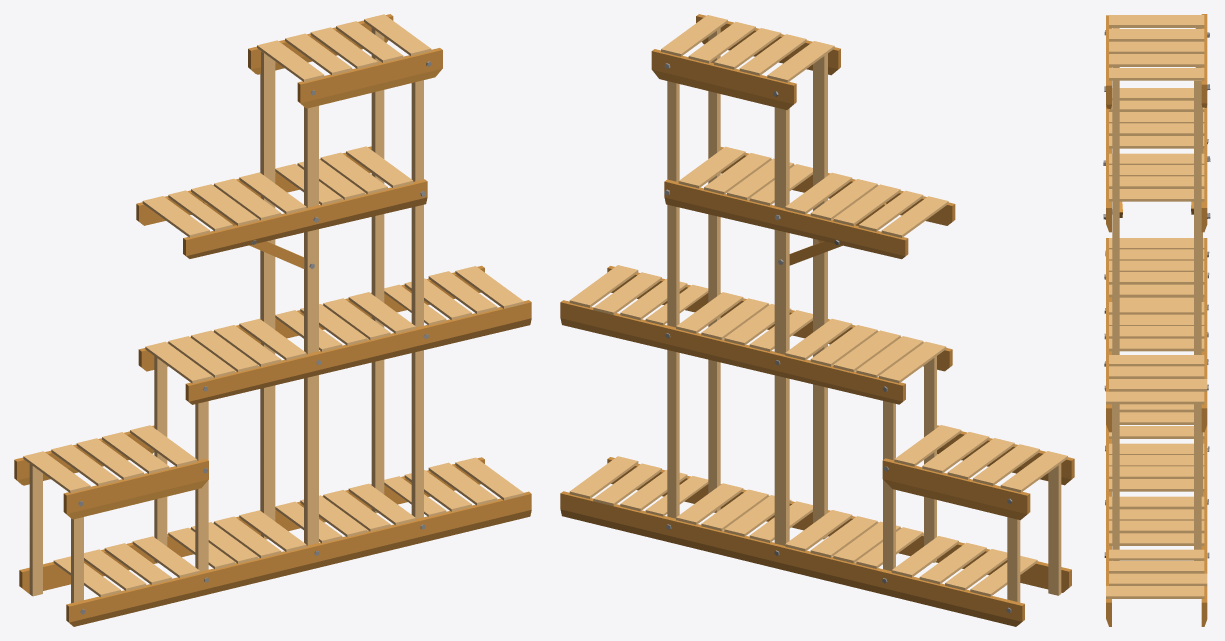
The model's file is shelf.glb.
The picture shows the model from 3 angles, left to right: view 1: azimuth 30°, elevation 25°; view 2: azimuth 150°, elevation 25°; view 3: azimuth 270°, elevation 25°; orthographic projection.
Visible parts, largest first — view 1: Shelf; view 2: Shelf; view 3: Shelf.
Boxes of the visible parts, x1,y1,x2,y2 form: Shelf: (14, 14, 531, 626); Shelf: (560, 14, 1074, 626); Shelf: (1103, 14, 1210, 626).
Bounding box in the file's own units: 1.84 × 1.85 × 0.3594.
